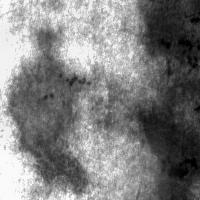patches: (0, 2, 143, 156), (8, 27, 90, 193), (135, 79, 199, 195), (90, 130, 178, 200), (142, 1, 198, 74)
